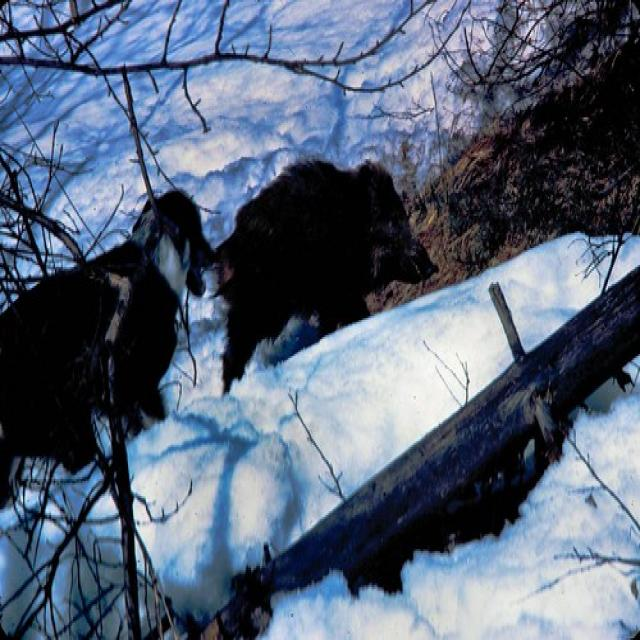boar: (208, 128, 454, 424)
